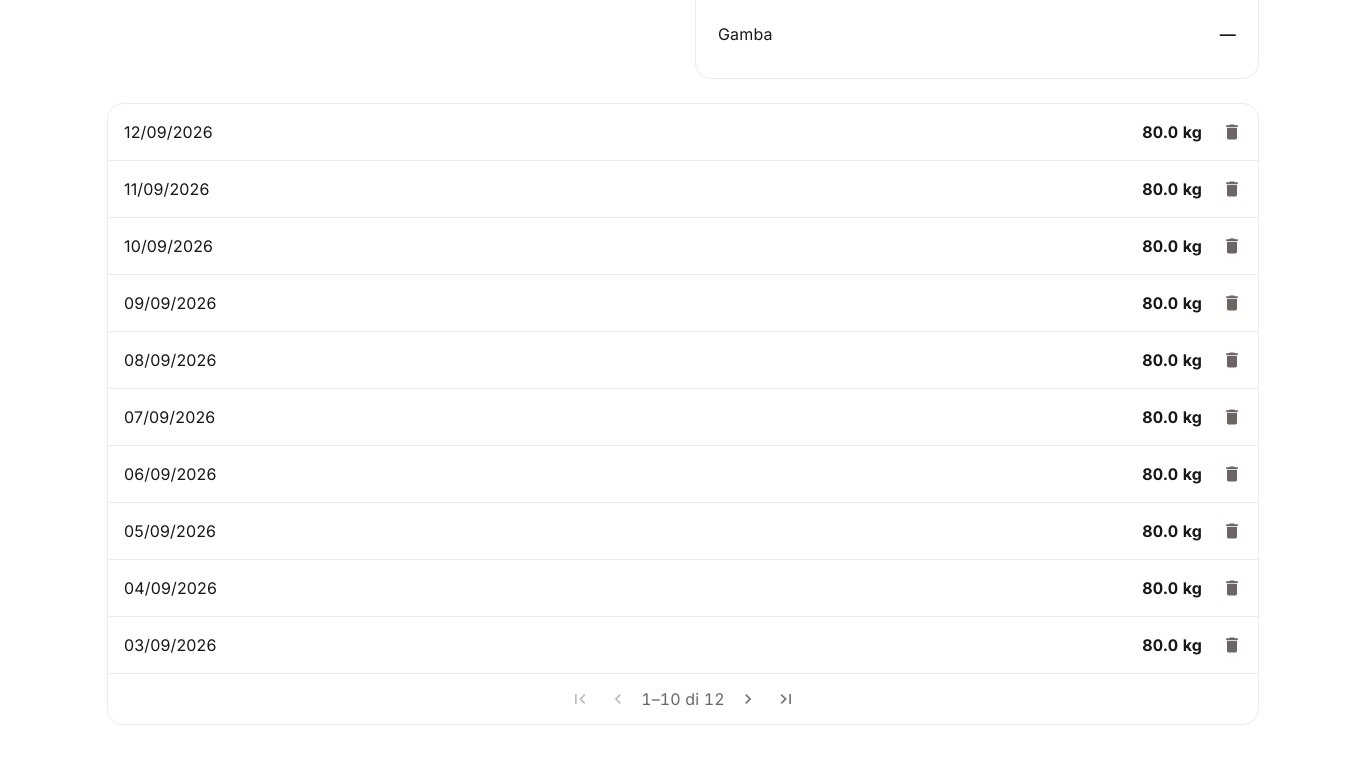
storico › sul telefono il cestino è un bersaglio da 44px e la paginazione resta
(page scrolled)
Expected: the text "1–10 di 12" is shown, [641,687,725,711]
Click the button named "Pagina successiva" at (748, 699), box [733,684,763,714]
(page scrolled)
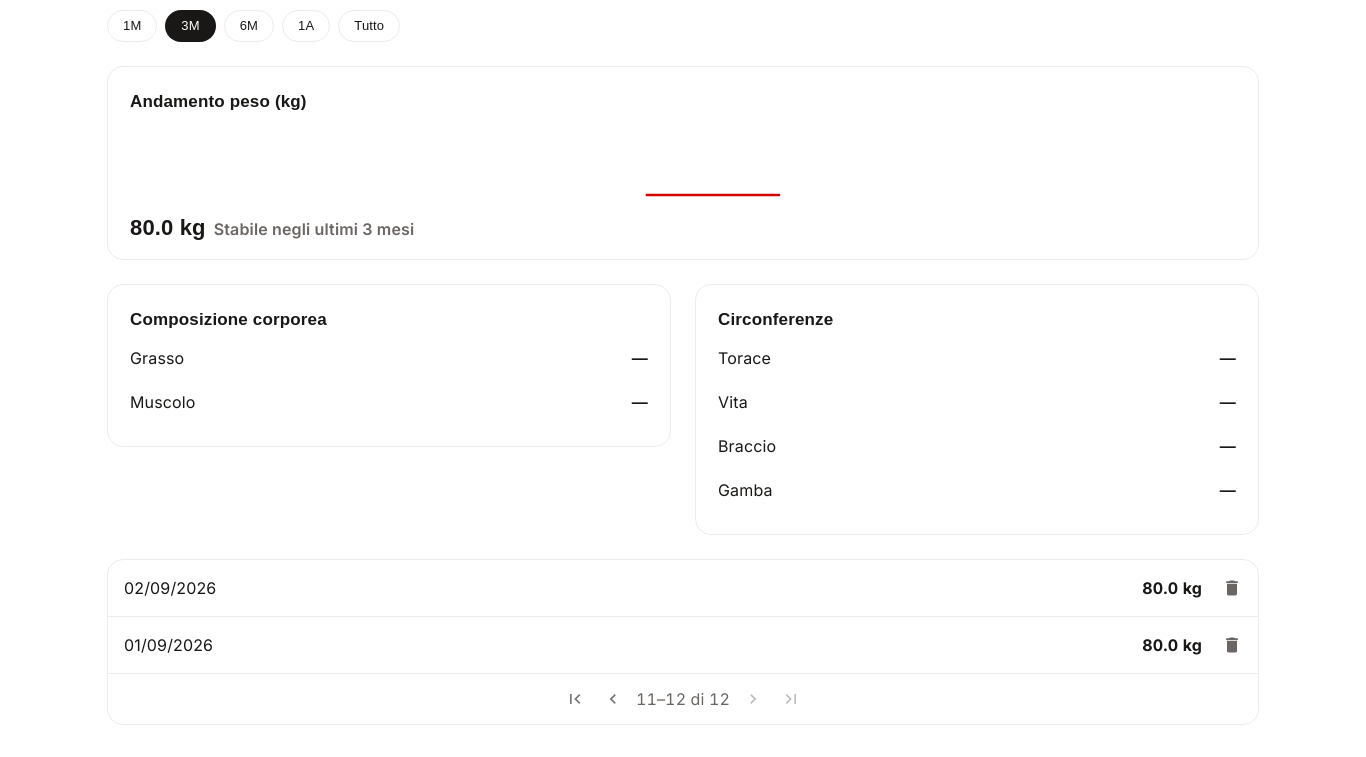
Expected: the number of list items is 2, [108,560,1258,616]; [108,616,1258,673]
